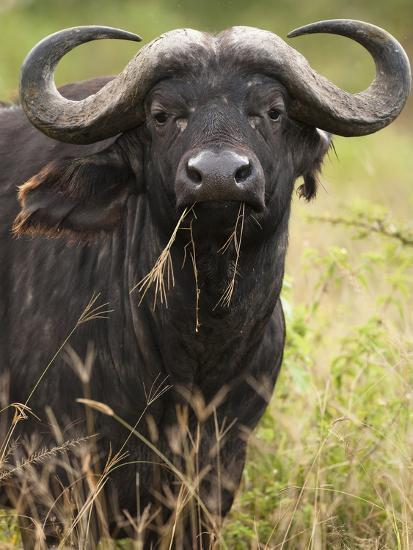Buffalo: (0, 8, 413, 550)
